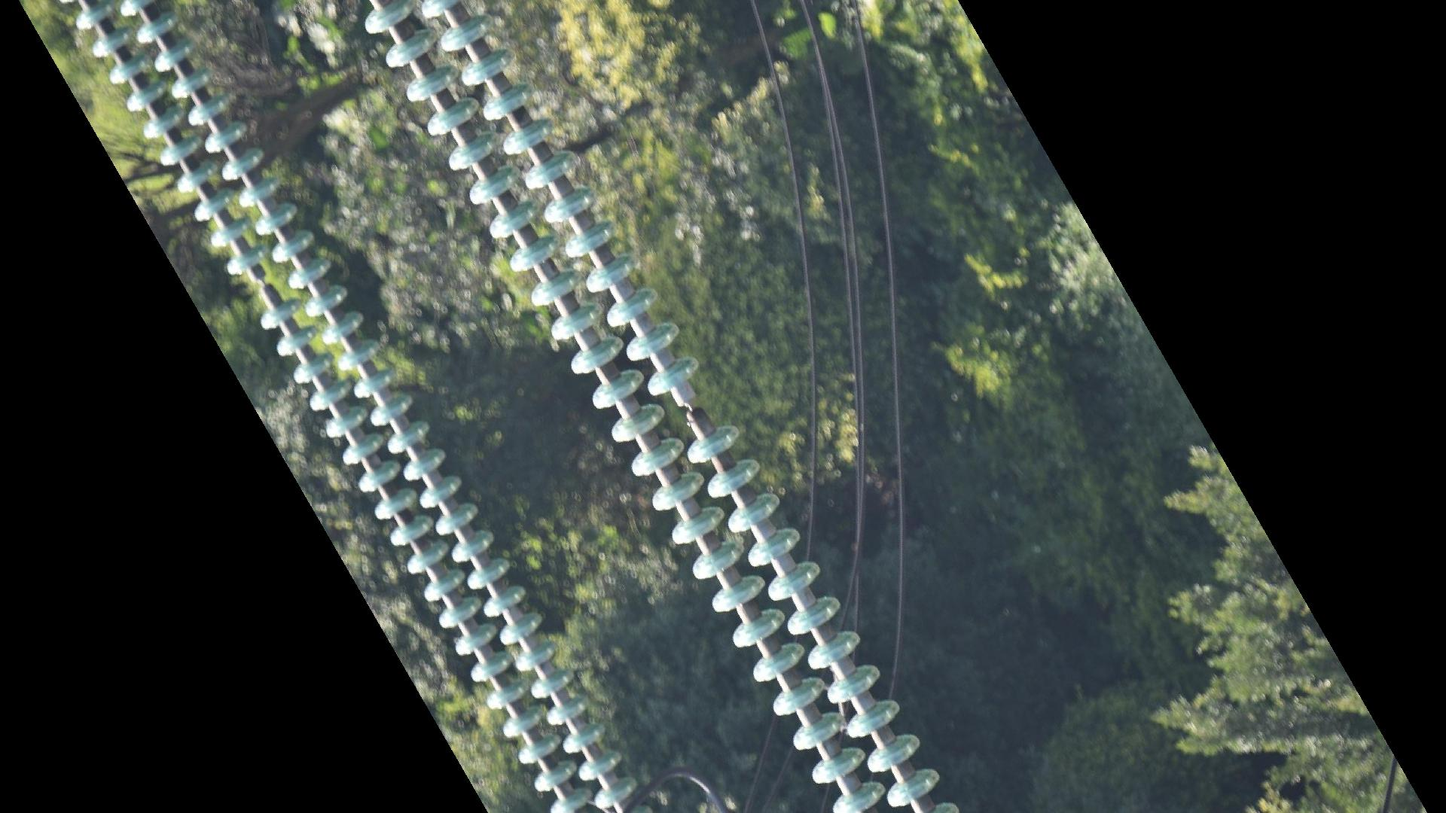insulator: (357, 1, 970, 813), (64, 1, 642, 813)
insulator_stringdrop: (644, 351, 744, 469), (223, 240, 307, 335)
